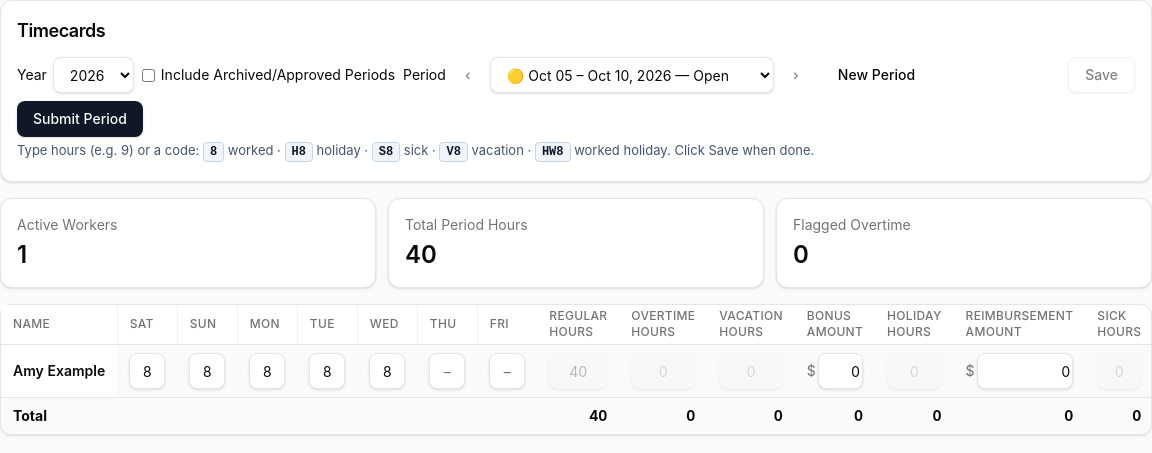
TimecardPage (Stage A) › Escape reverts without touching state
Check: the text "Amy Example" is shown, box 1,344 -> 117,398
Replace the text in the field named "day-1-2026-10-05" with "V8" at (147, 371), box 129,353 -> 165,389
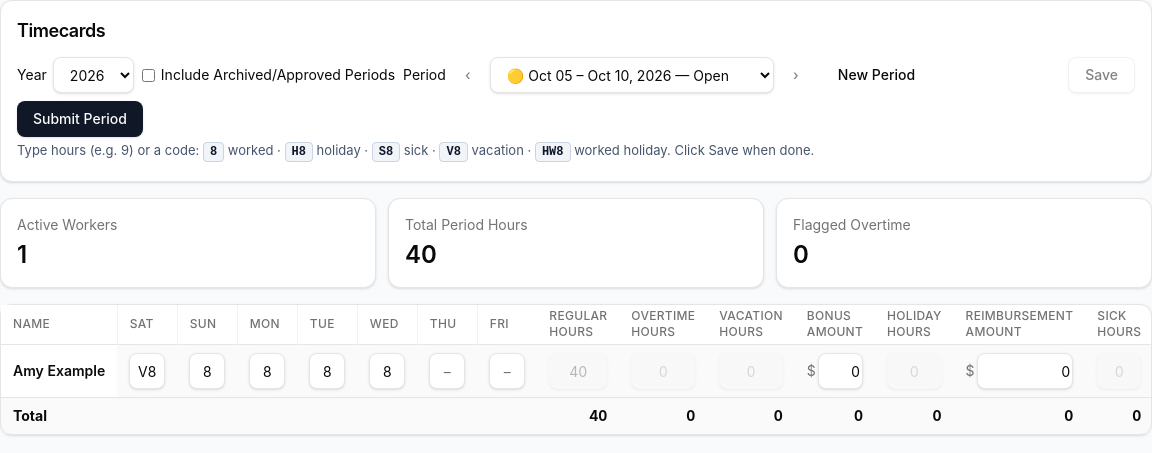
Press Escape in the field named "day-1-2026-10-05", box 129,353 -> 165,389
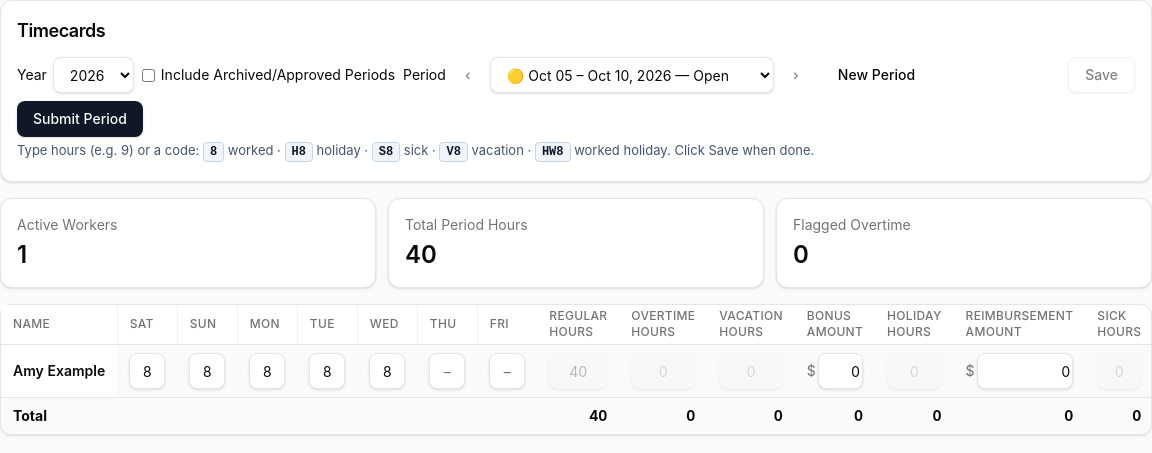
Check: the field named "day-1-2026-10-05" holds "8", box 129,353 -> 165,389
